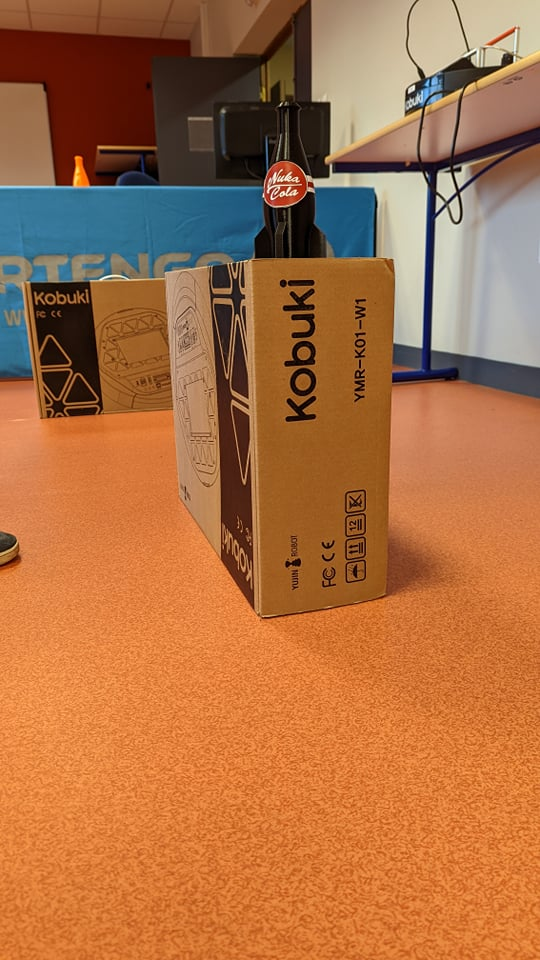bottle: (246, 93, 336, 267)
